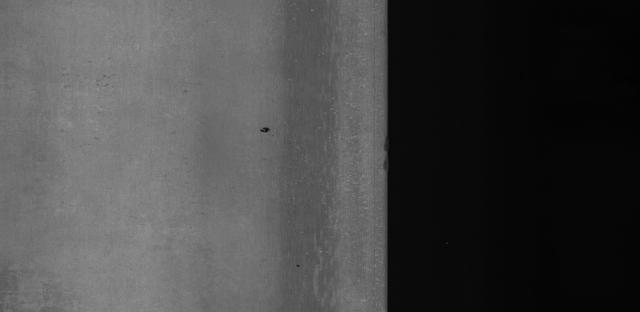inclusion: (251, 121, 276, 137)
